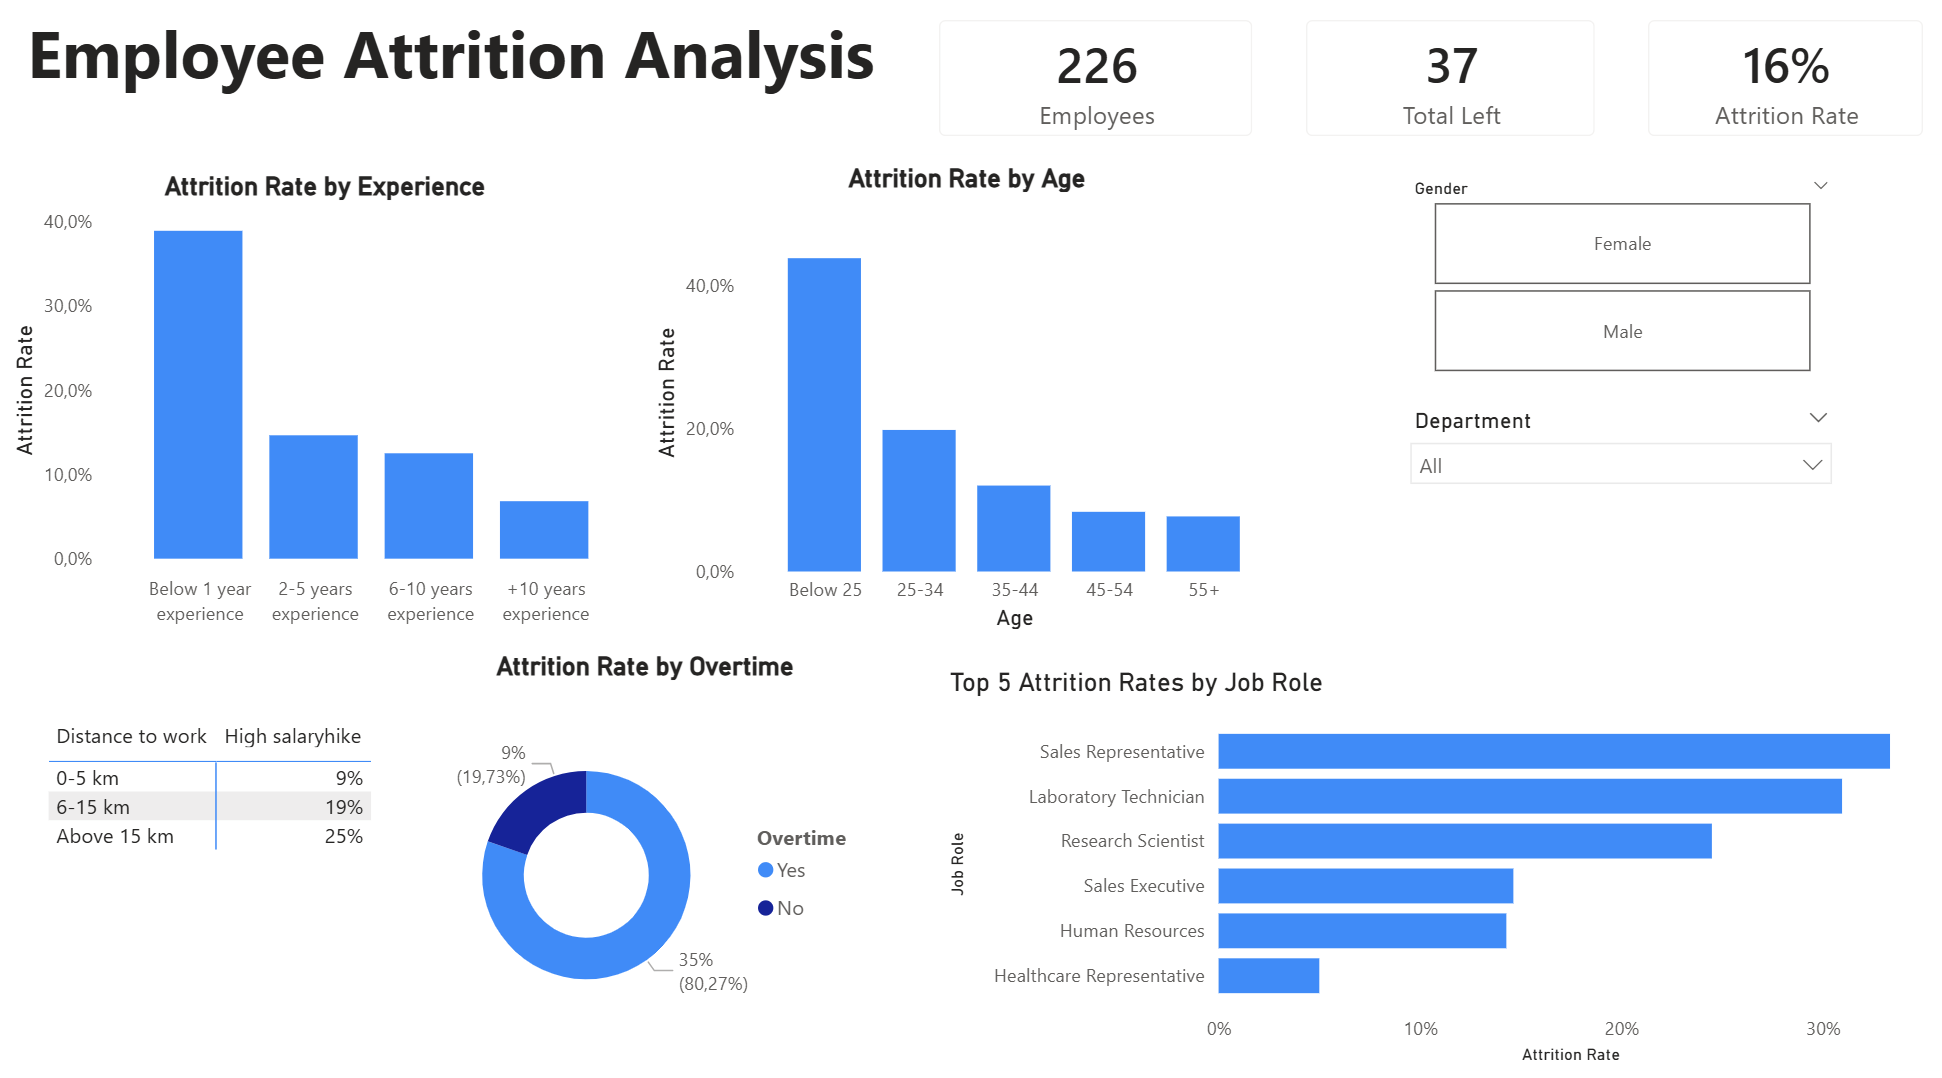

The page's visual inventory and layout, read from the dashboard file:
{"tool":"powerbi","page":{"name":"Page 1","canvas":[1280,720],"ordinal":0},"visuals":[{"type":"columnChart","title":"Attrition Rate by Age","fields":{"Y":["Result_1.Attrition Rate"],"Category":["Result_6.group_age"]},"box":[426.4,110.5,420.1,310.3],"z":0},{"type":"pivotTable","fields":{"Rows":["Result_1.distance_to_work"],"Values":["Result_1.Attrition Rate"],"Columns":["Result_1.salaryhike_rating"]},"box":[31,470.1,233.6,103.4],"z":1000},{"type":"textbox","box":[6.3,4.2,584.8,72.5],"z":2000},{"type":"cardVisual","fields":{"Data":["CountNonNull(Result_1.employeenumber)"]},"box":[601.6,0,240,110.5],"z":3000},{"type":"cardVisual","fields":{"Data":["Result_1.Attrition Rate"]},"box":[1065.4,0,214.6,110.5],"z":4000},{"type":"donutChart","fields":{"Category":["Result_1_1.overtime"],"Y":["Result_1.Attrition Rate"]},"box":[270.9,430,310.3,274.4],"z":5000},{"type":"cardVisual","fields":{"Data":["employee_attrition.Total Left"]},"box":[841.6,0,223.8,110.5],"z":6000},{"type":"columnChart","title":"Attrition Rate by Experience","fields":{"Y":["employee_attrition.Attrition Rate"],"Category":["Result_9 (2).experience_years"]},"box":[6.3,116.1,420.1,304.7],"z":7000},{"type":"barChart","title":"Top 5 Attrition Rates by Job Role","fields":{"Y":["employee_attrition.Attrition Rate"],"Category":["Result_9.jobrole"]},"box":[620.6,440.5,659.4,263.9],"z":8000},{"type":"slicer","title":"Department","fields":{"Values":["Result_12.department"]},"box":[916.9,266,296.3,124.6],"z":9000},{"type":"slicer","title":"Gender","fields":{"Values":["Result_12.gender"]},"box":[916.9,116.1,296.3,137.9],"z":10000}]}

Visuals, with their boxes in screenshot pixels (x1, y1, x2, y2), scaled from the page's 1280x720 canvas onto the 1942x1078 screenshot:
"Attrition Rate by Age" columnChart: (647,165,1284,630)
pivotTable - Result_1.distance_to_work x Result_1.Attrition Rate: (47,704,401,859)
textbox: (10,6,897,115)
cardVisual - CountNonNull(Result_1.employeenumber): (913,0,1277,165)
cardVisual - Result_1.Attrition Rate: (1616,0,1941,165)
donutChart - Result_1_1.overtime x Result_1.Attrition Rate: (411,644,882,1055)
cardVisual - employee_attrition.Total Left: (1277,0,1616,165)
"Attrition Rate by Experience" columnChart: (10,174,647,630)
"Top 5 Attrition Rates by Job Role" barChart: (942,660,1941,1055)
"Department" slicer: (1391,398,1841,585)
"Gender" slicer: (1391,174,1841,380)
